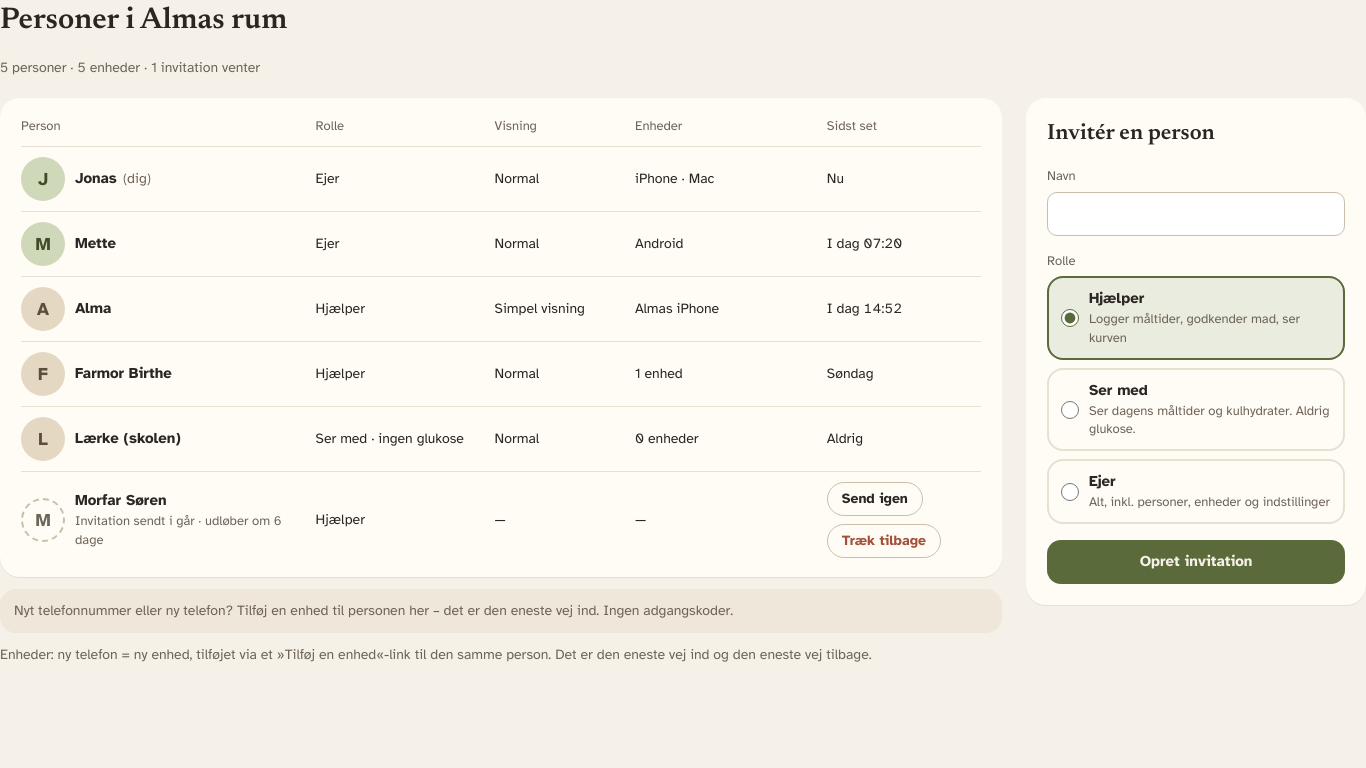
Test: PeopleScreen · a member's devices and role (design gap: phone detail) › tells the owner kindly when the last owner cannot step down
Click the row with test id "member-row" that starts with "Jonas": (501, 179) 21,147 -> 981,212
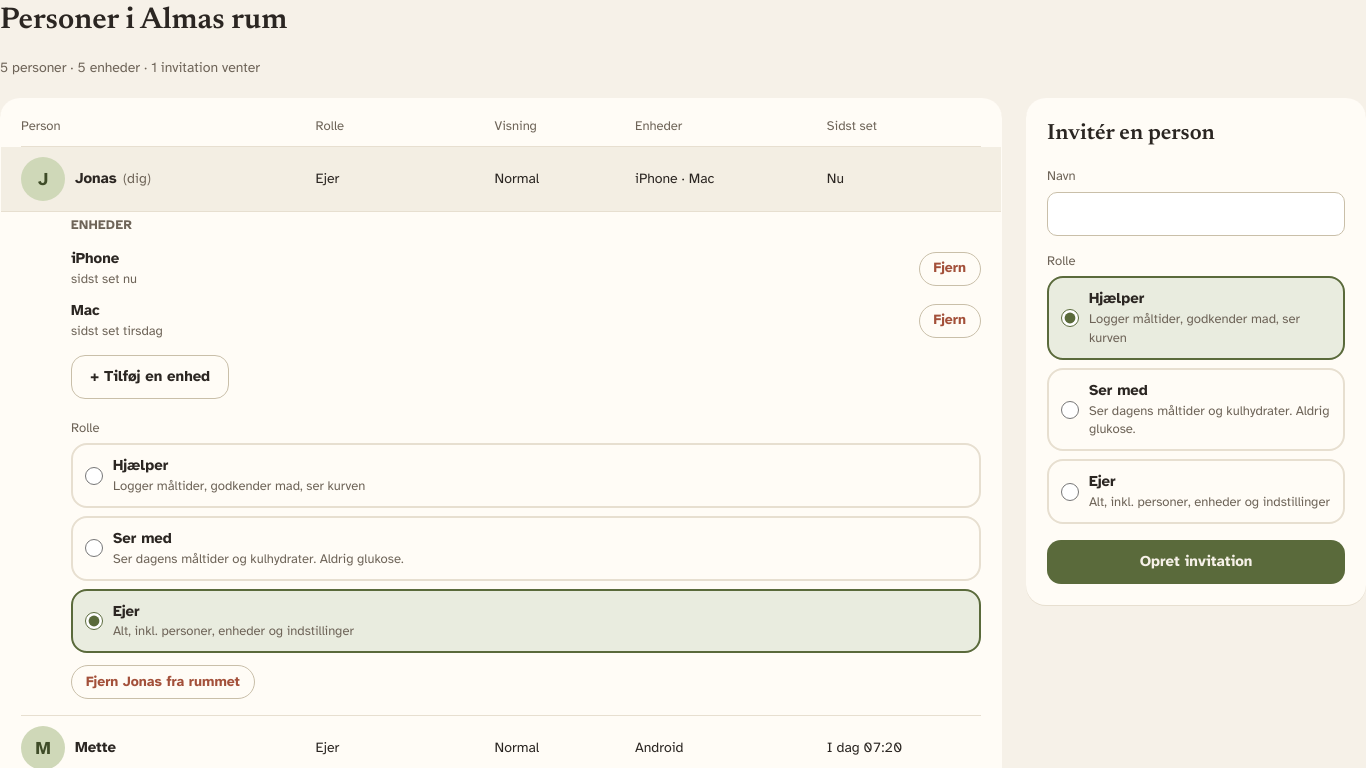
Click the radio button labelled "Hjælper Logger måltider, godkender mad, ser kurven" below "sidst set tirsdag": (94, 476) 85,467 -> 103,485
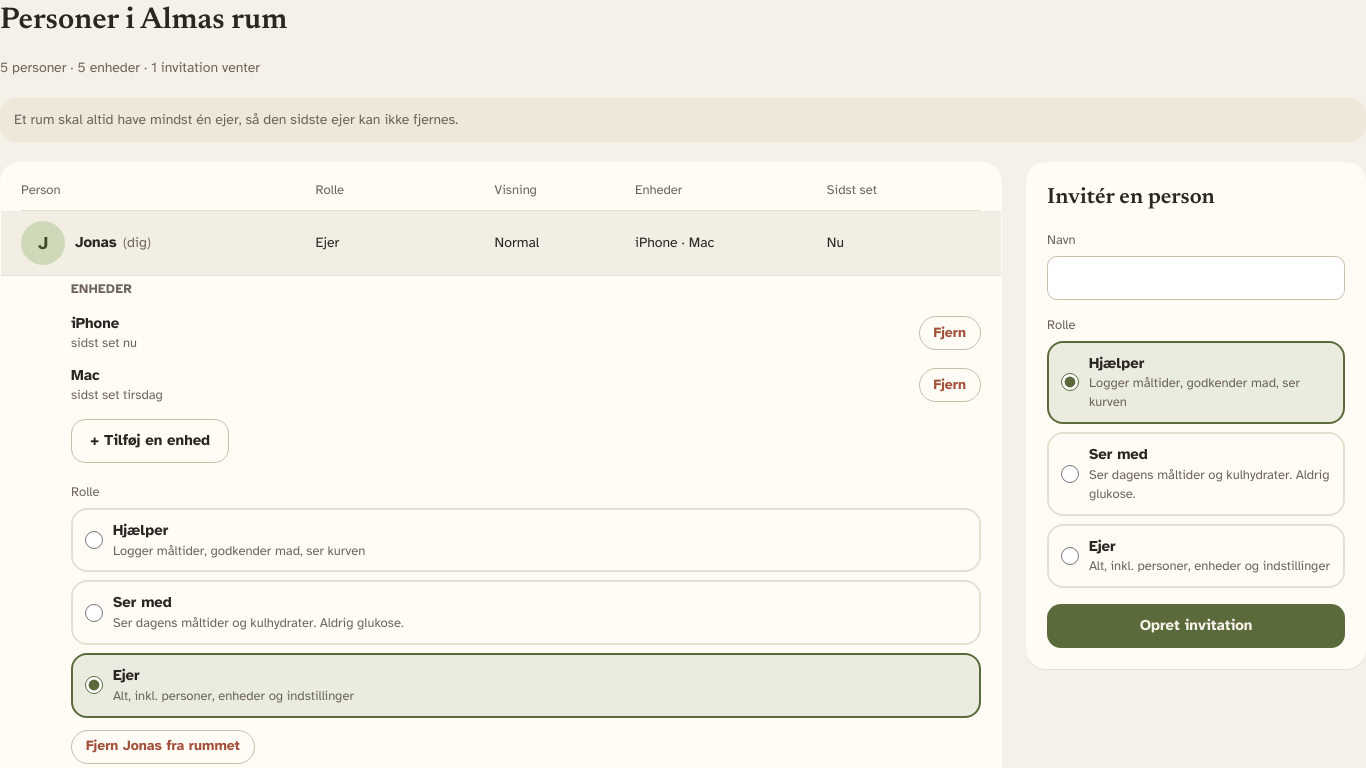
Check: the message reads "Et rum skal altid have mindst én ejer, så den sidste ejer kan ikke fjernes.", box 14,111 -> 458,128
